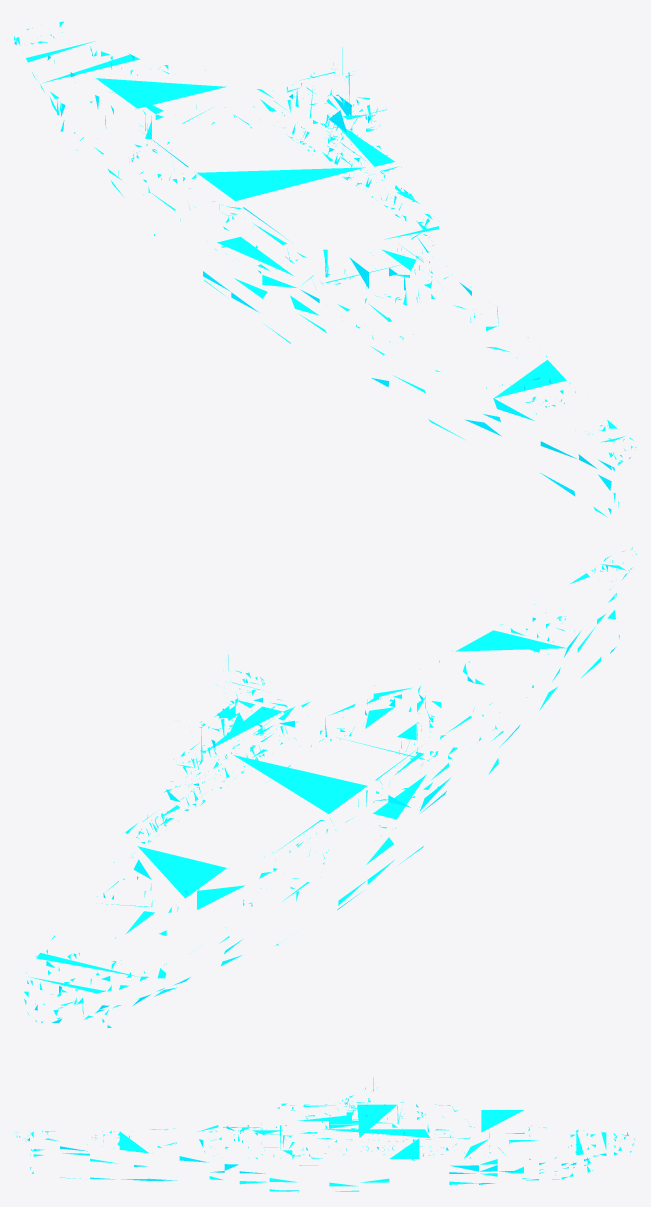
File: Louisiana.glb
3 renders of one model, top to bottom at view 1: azimuth 30°, elevation 25°; view 2: azimuth 150°, elevation 25°; view 3: azimuth 270°, elevation 25°, orthographic. The views are drawn at different scales.
Bounding box in the file's own units: 3.44 × 3.85 × 18.77.
